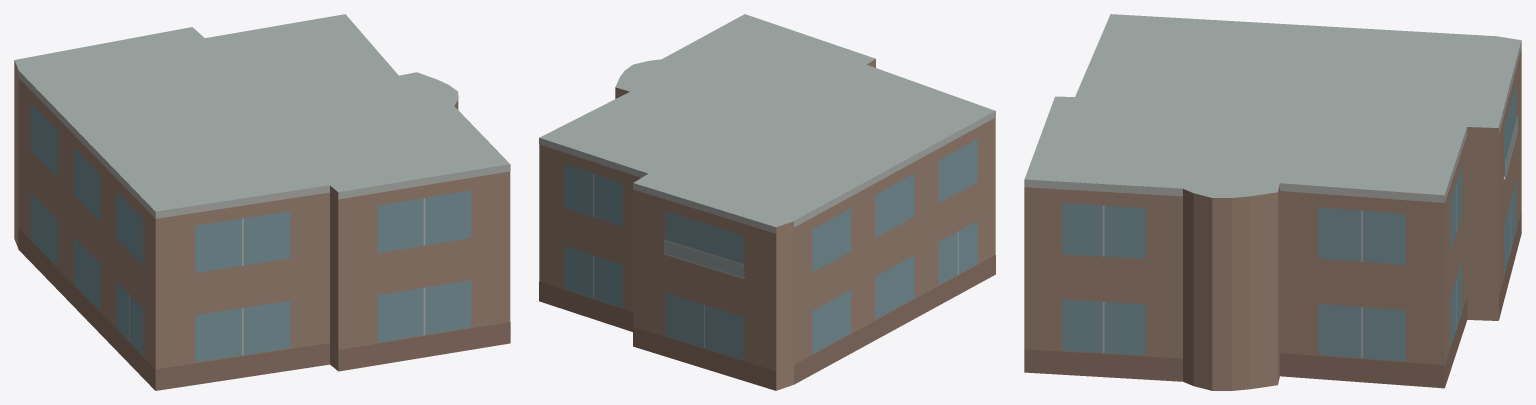
Rendered from survey-upis-32807984.glb.
3 renders of one model, left to right at view 1: azimuth 30°, elevation 25°; view 2: azimuth 150°, elevation 25°; view 3: azimuth 270°, elevation 25°, orthographic. The views are drawn at different scales.
Visible parts, largest first — view 1: survey-upis-32807984.tmp; view 2: survey-upis-32807984.tmp; view 3: survey-upis-32807984.tmp.
Boxes of the visible parts, box(x1,y1,x2,y2) form: survey-upis-32807984.tmp: box(14, 14, 510, 390); survey-upis-32807984.tmp: box(539, 14, 995, 390); survey-upis-32807984.tmp: box(1024, 14, 1521, 390).
Size of the model in its own units: 12.48 by 6.1 by 14.26.
